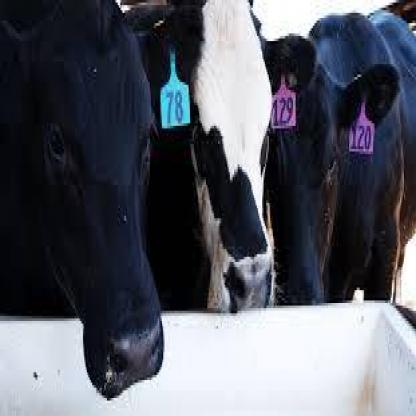cow: (0, 0, 165, 403), (152, 0, 316, 316), (265, 0, 416, 306)
